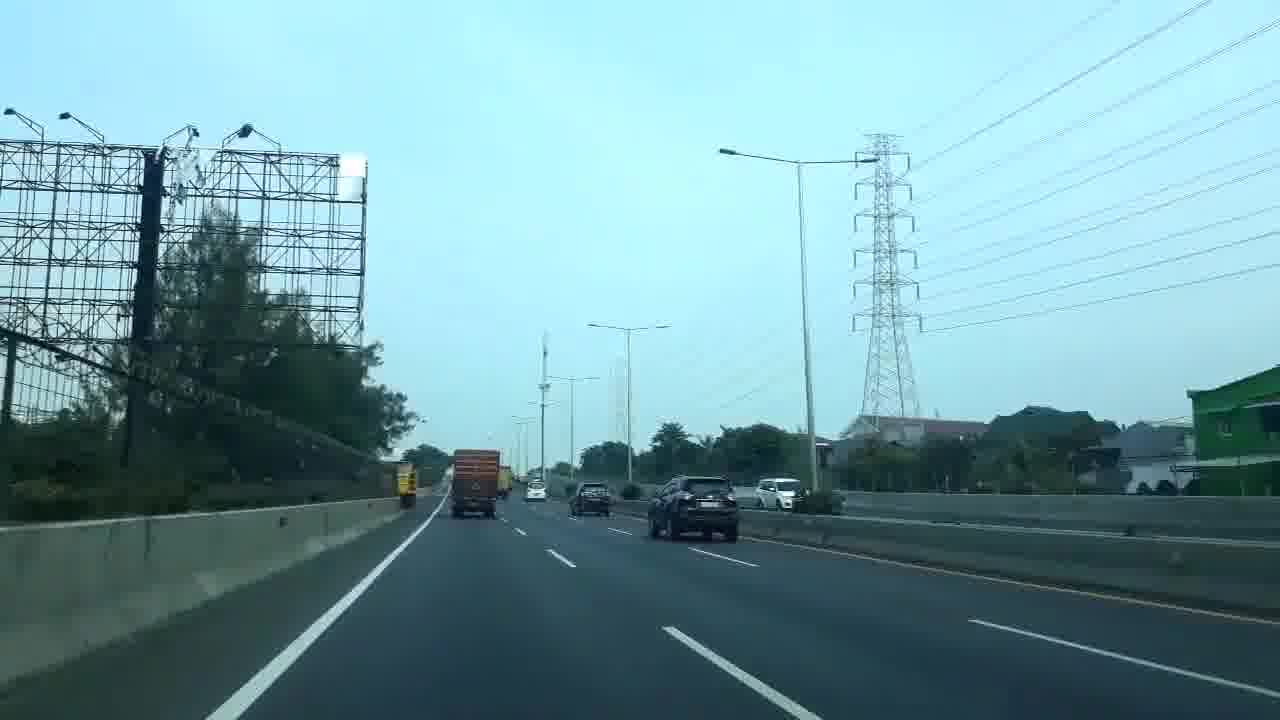plate_positive: (700, 501, 720, 507)
